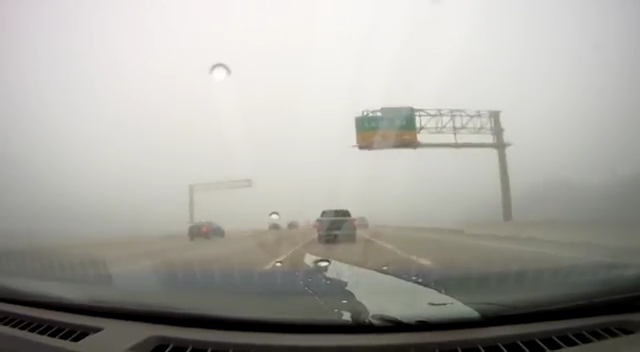car: (315, 209, 357, 244), (187, 221, 225, 241), (353, 216, 369, 230), (268, 222, 282, 232), (288, 220, 299, 230)
